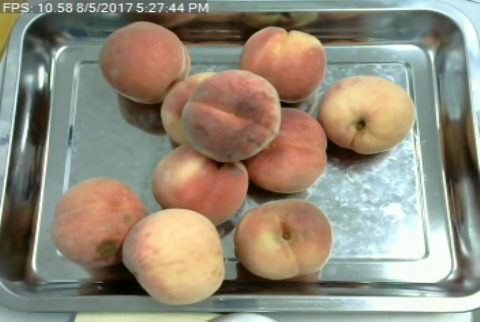Peach: (123, 206, 225, 305), (51, 176, 149, 271), (180, 69, 281, 161), (317, 73, 416, 156), (234, 199, 332, 279), (100, 21, 188, 106), (150, 147, 251, 221), (242, 106, 327, 189), (239, 25, 326, 102)
